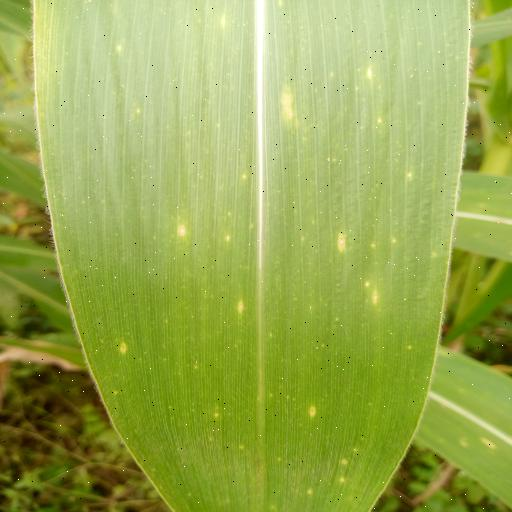Corn_Chlorotic_Leaf_Spot: (28, 0, 478, 512)
